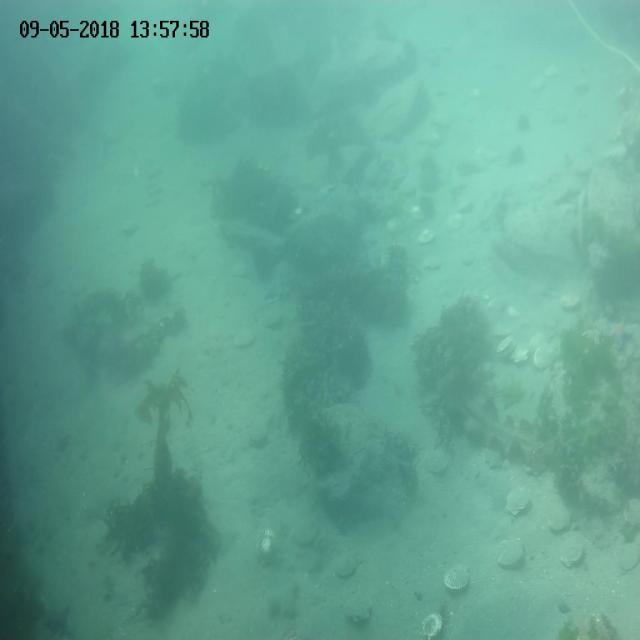scallop: (344, 589, 373, 625), (254, 528, 280, 568), (441, 564, 472, 594), (497, 542, 528, 572), (558, 542, 586, 572), (503, 484, 529, 516), (422, 610, 446, 640), (621, 493, 640, 530), (532, 344, 557, 372), (332, 554, 358, 580), (545, 512, 574, 534), (483, 446, 505, 470), (509, 343, 530, 367), (494, 336, 516, 358), (246, 428, 270, 448), (429, 453, 449, 477), (234, 330, 256, 349), (558, 294, 580, 310), (385, 217, 404, 235), (444, 213, 464, 230), (417, 228, 437, 244), (120, 218, 138, 235), (232, 263, 250, 279), (409, 206, 428, 221), (422, 257, 440, 271)
starfish: (606, 323, 632, 353)
